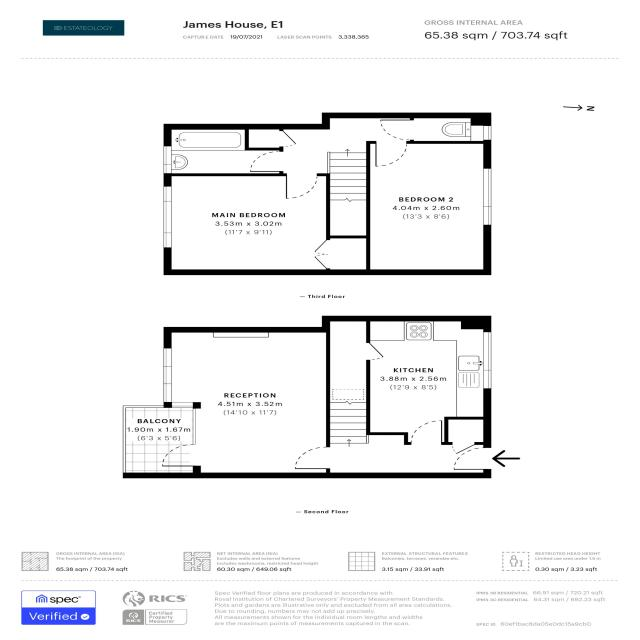DOOR: (284, 172, 320, 200), (409, 419, 444, 446), (453, 447, 492, 470), (375, 140, 408, 167), (294, 446, 331, 470), (162, 444, 197, 467), (379, 119, 415, 141), (249, 151, 284, 172), (365, 342, 385, 361)
ROOM: (160, 327, 331, 478), (165, 173, 333, 275), (366, 141, 492, 275), (366, 316, 492, 445)
WINDOW: (482, 331, 492, 370), (483, 168, 492, 207), (163, 200, 172, 233), (163, 146, 172, 174), (482, 369, 492, 389), (483, 206, 492, 225), (163, 348, 172, 366), (163, 366, 172, 384), (163, 384, 172, 402), (163, 186, 172, 202), (163, 233, 172, 248), (483, 125, 492, 140), (172, 402, 193, 408)
